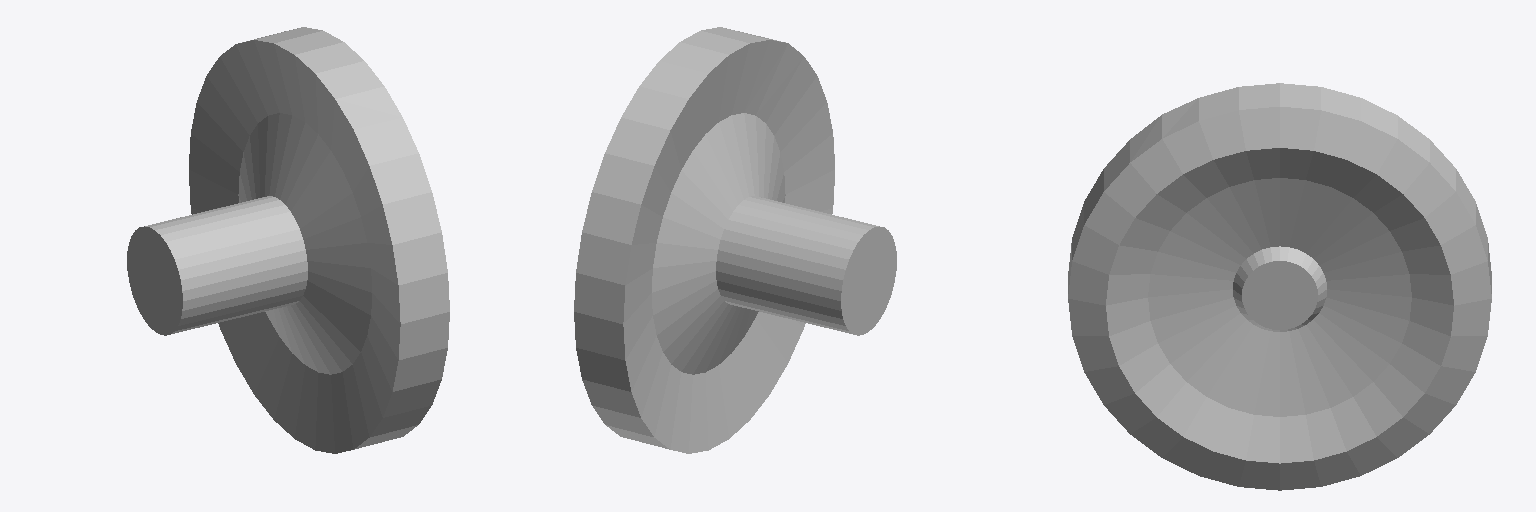
File: left_wheel.obj
3 renders of one model, left to right at view 1: azimuth 30°, elevation 25°; view 2: azimuth 150°, elevation 25°; view 3: azimuth 270°, elevation 25°, orthographic.
Size of the model in its own units: 0.5242 by 0.9543 by 0.9523.